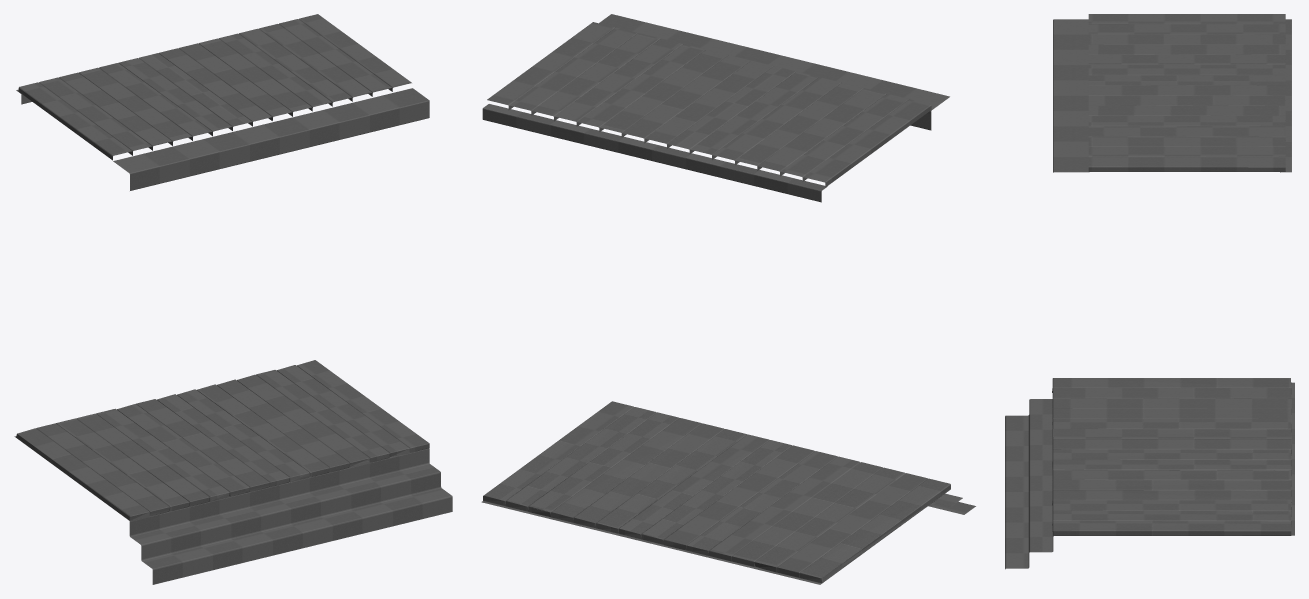
The model's file is SM_House_FrontStairs_A.glb.
3 views of the same model, side by side, from view 1: azimuth 30°, elevation 25°; view 2: azimuth 150°, elevation 25°; view 3: azimuth 270°, elevation 25° (orthographic). The views are drawn at different scales.
Parts seen in each view (by area): view 1: SM_House_FrontStairs_A; view 2: SM_House_FrontStairs_A; view 3: SM_House_FrontStairs_A.
Boxes of the visible parts, x1,y1,x2,y2 form: SM_House_FrontStairs_A: (14, 14, 452, 584); SM_House_FrontStairs_A: (481, 14, 975, 584); SM_House_FrontStairs_A: (1005, 14, 1294, 569).
Size of the model in its own units: 300 by 382 by 240.
1 material, 1 textured.
